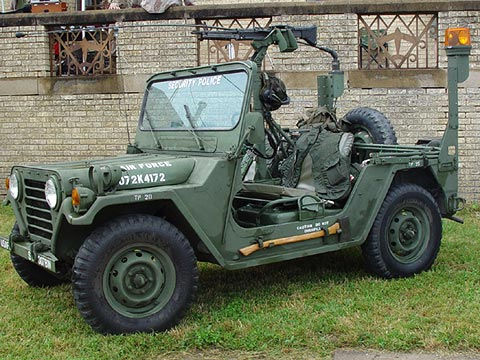rifle: (186, 17, 329, 56)
